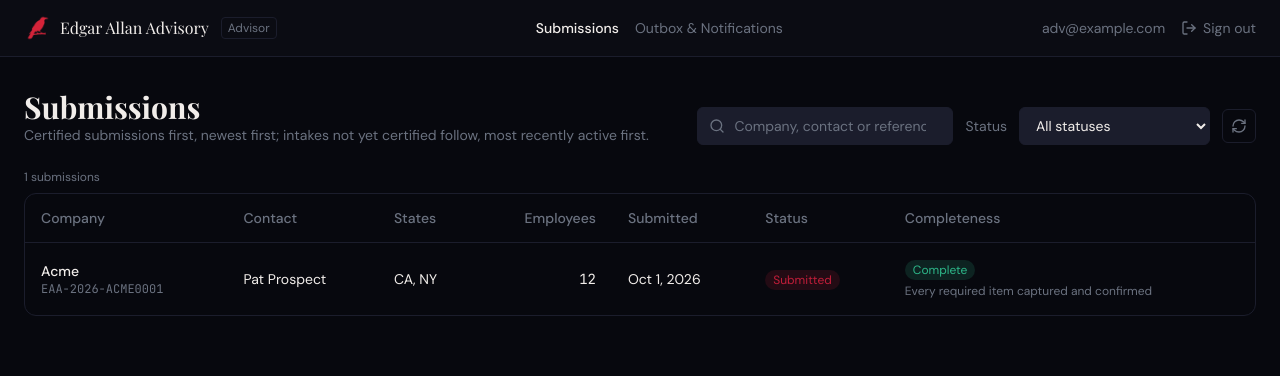
Test: AdvisorDashboardPage › filters by status
The width and height of the screenshot is (1280, 376).
Expected: the link "Acme" is shown, [41, 262, 79, 280]
Select "Won" in the dropdown labelled "Status" at point(1114, 126), box [1019, 107, 1210, 145]
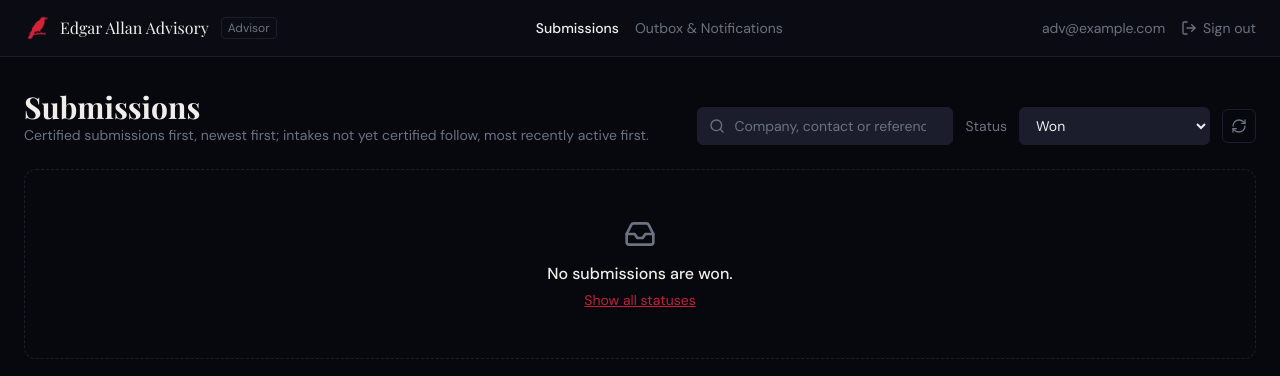
Now the text "No submissions are won." is shown, box [547, 263, 733, 284]
Click the button "Show all statuses" at point(640, 300), box [584, 290, 696, 310]
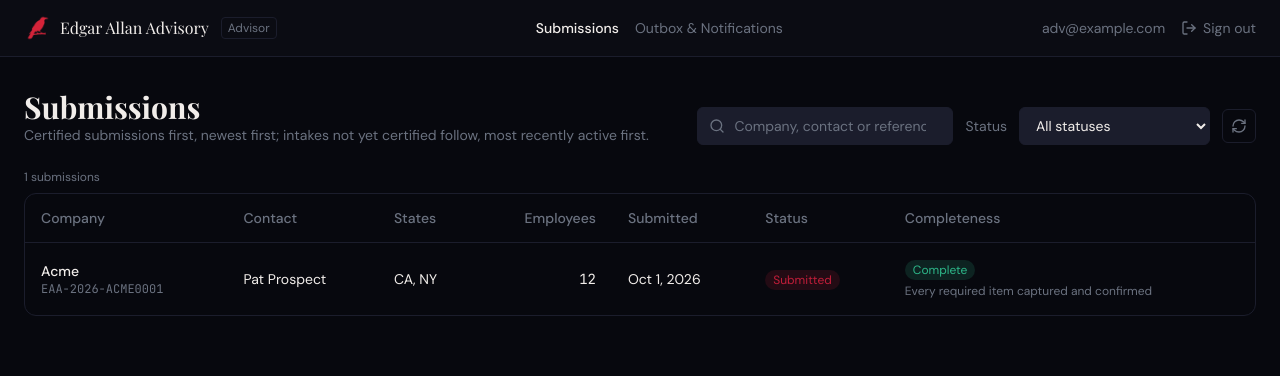
Now the link "Acme" is shown, box [41, 262, 79, 280]
